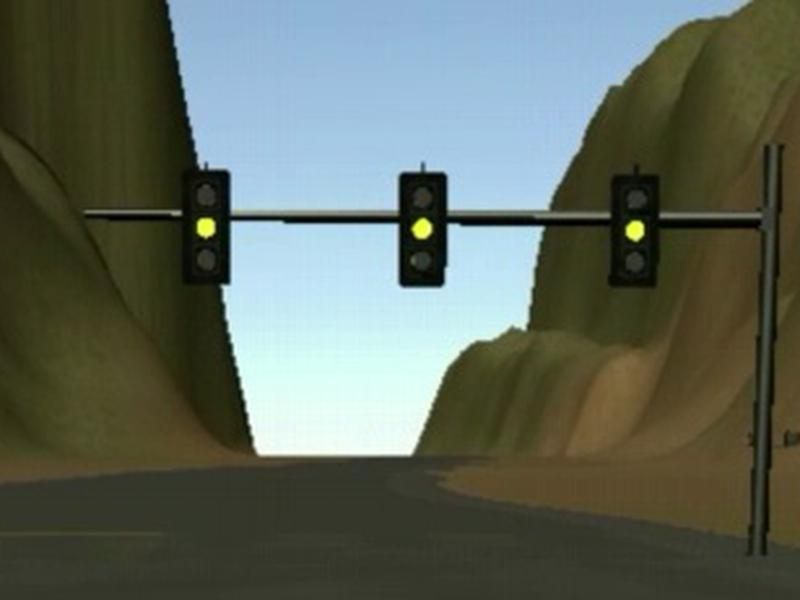Yellow: (397, 171, 447, 289), (182, 168, 230, 286), (610, 173, 659, 288)
